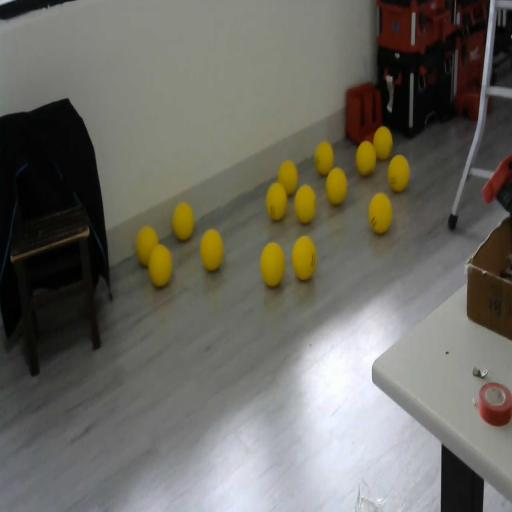FUEL: (291, 234, 317, 282), (260, 240, 286, 288), (147, 242, 173, 288), (200, 228, 224, 272), (368, 191, 392, 235), (172, 200, 194, 242), (294, 183, 316, 224), (326, 167, 348, 206), (388, 154, 410, 193), (266, 183, 287, 222), (277, 159, 299, 196), (372, 124, 394, 160), (356, 140, 376, 176), (314, 141, 334, 176)
